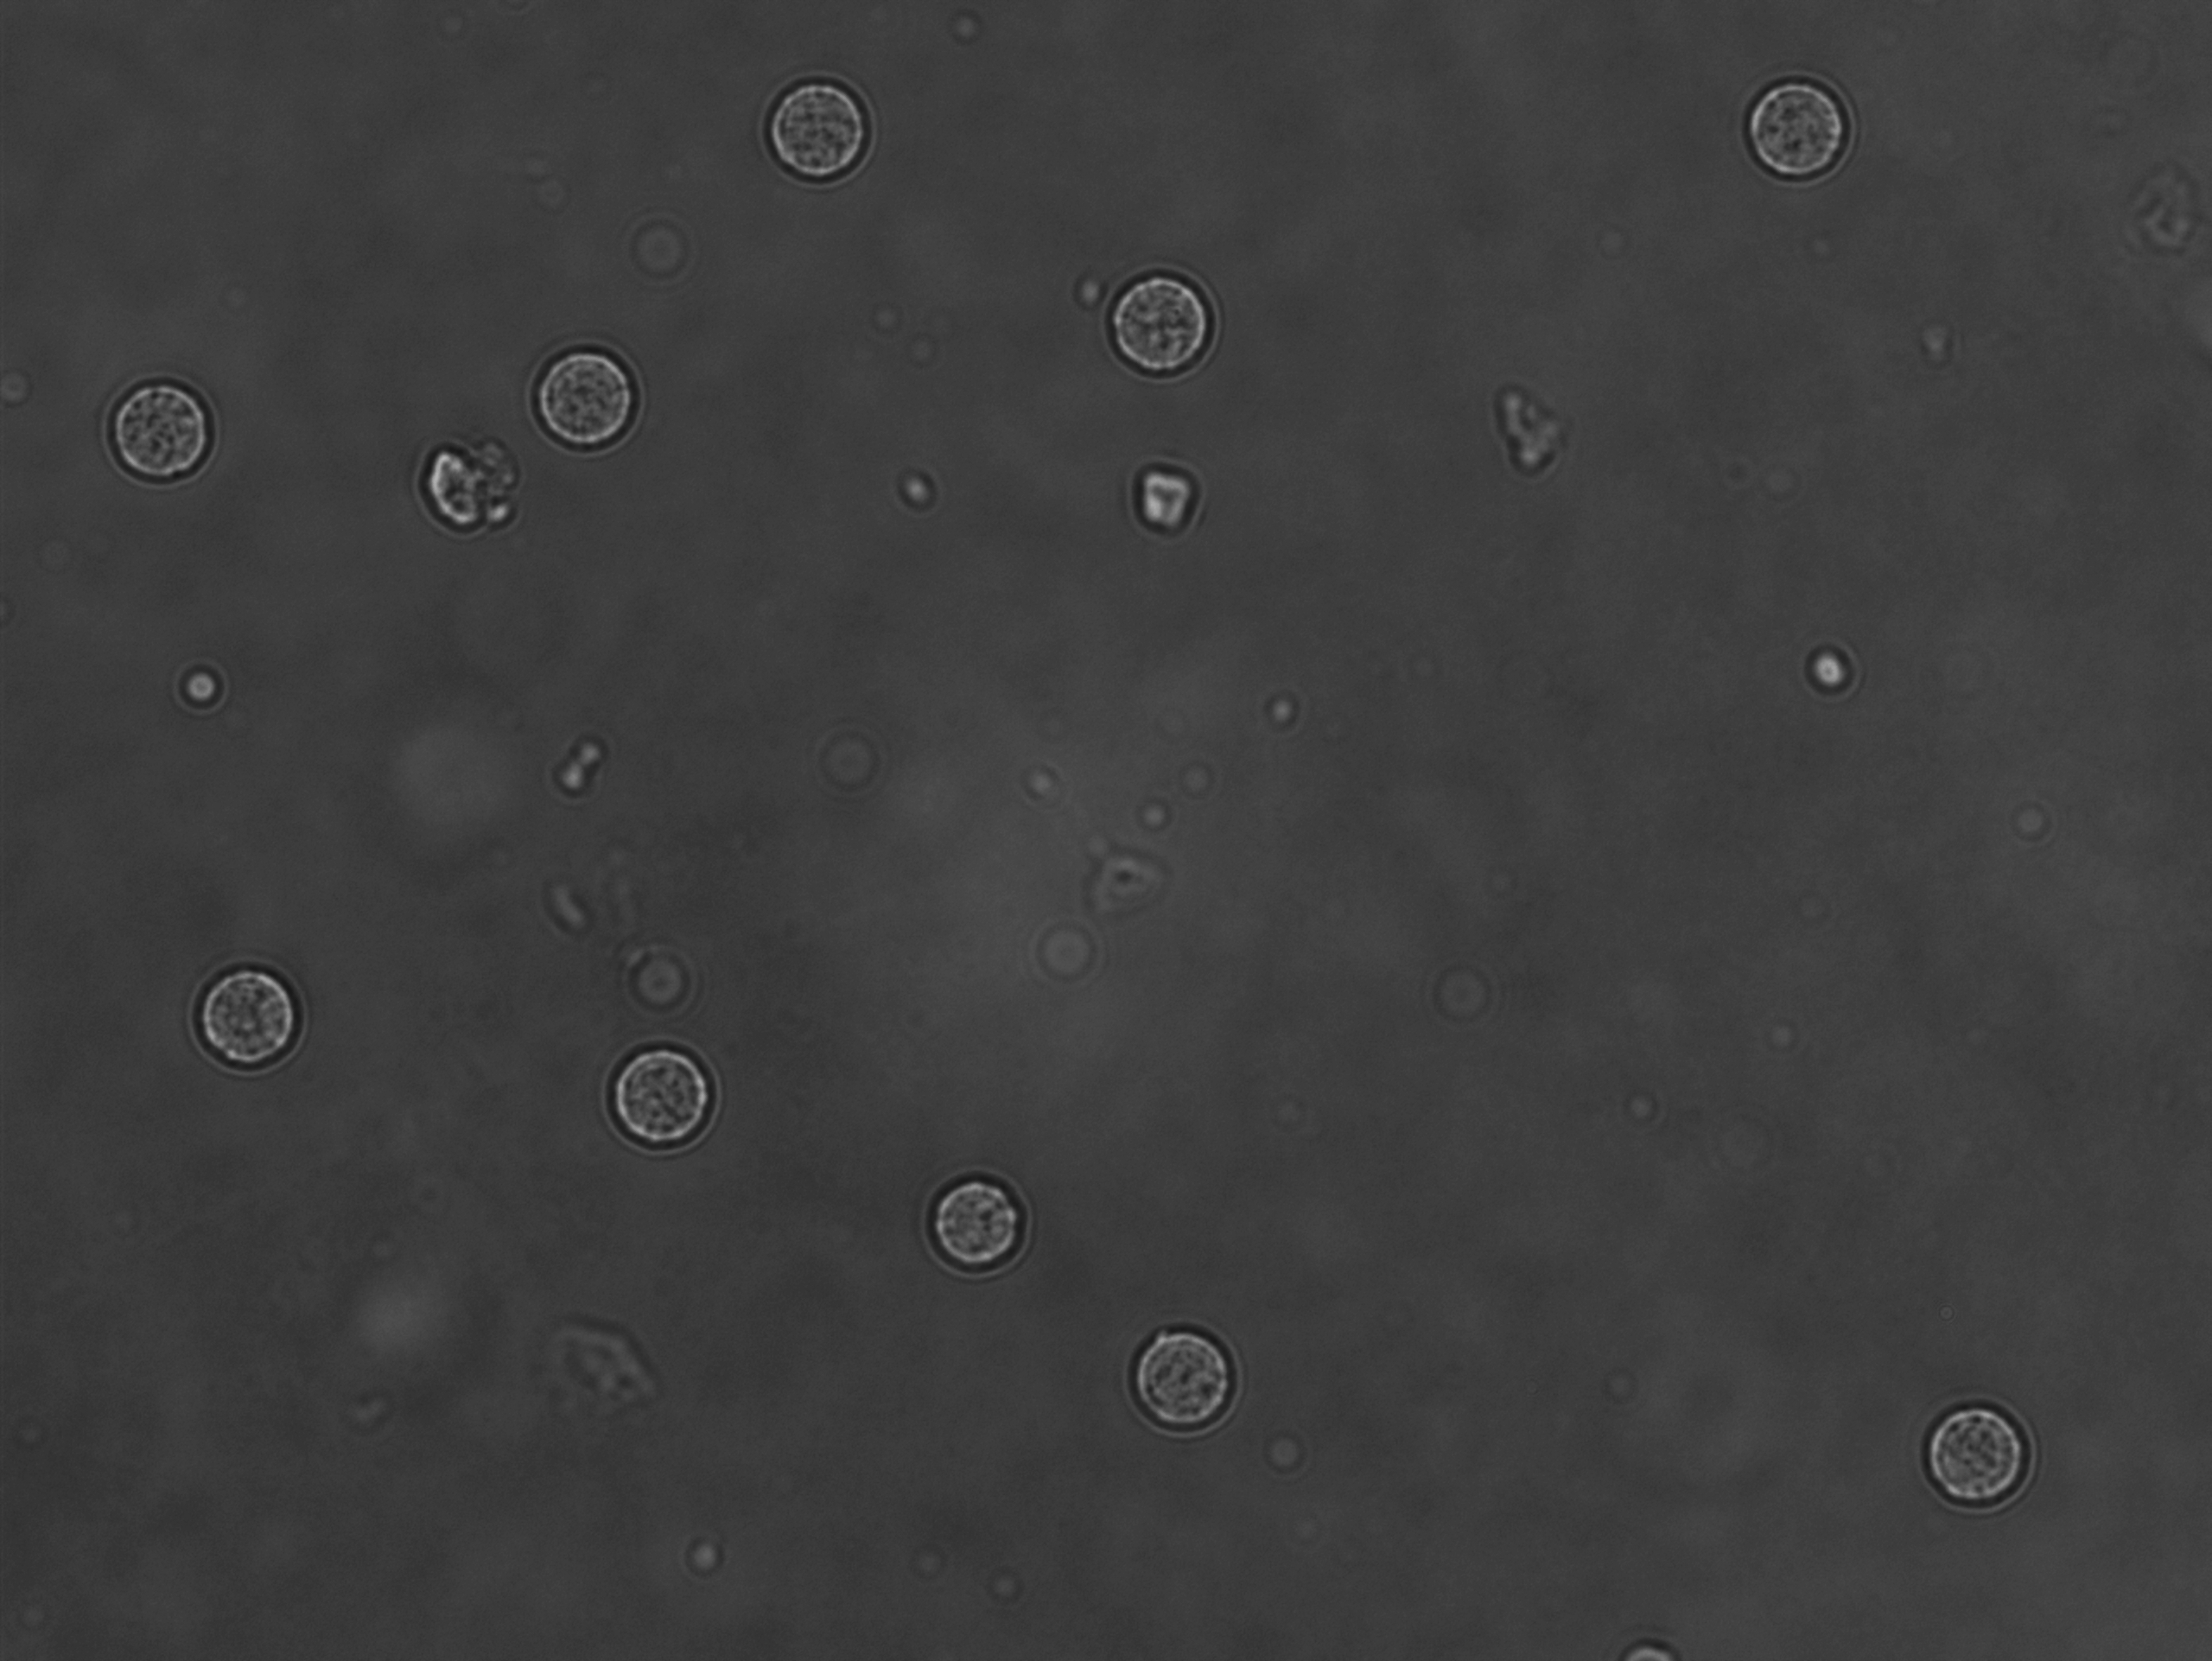depth:0: (1905, 1364, 2058, 1563), (1118, 1293, 1275, 1462), (584, 1014, 745, 1171), (904, 1134, 1048, 1298), (167, 951, 317, 1094), (743, 51, 888, 195), (1089, 253, 1235, 389), (1713, 61, 1853, 202), (89, 354, 227, 489), (515, 333, 658, 462)
